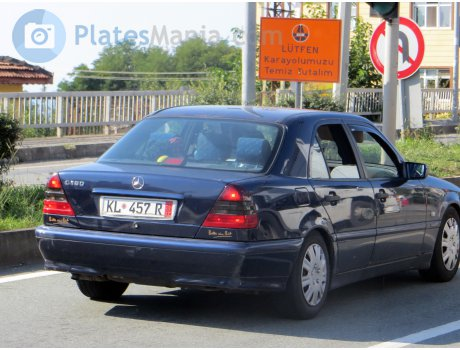License Plates: (105, 196, 168, 218)
